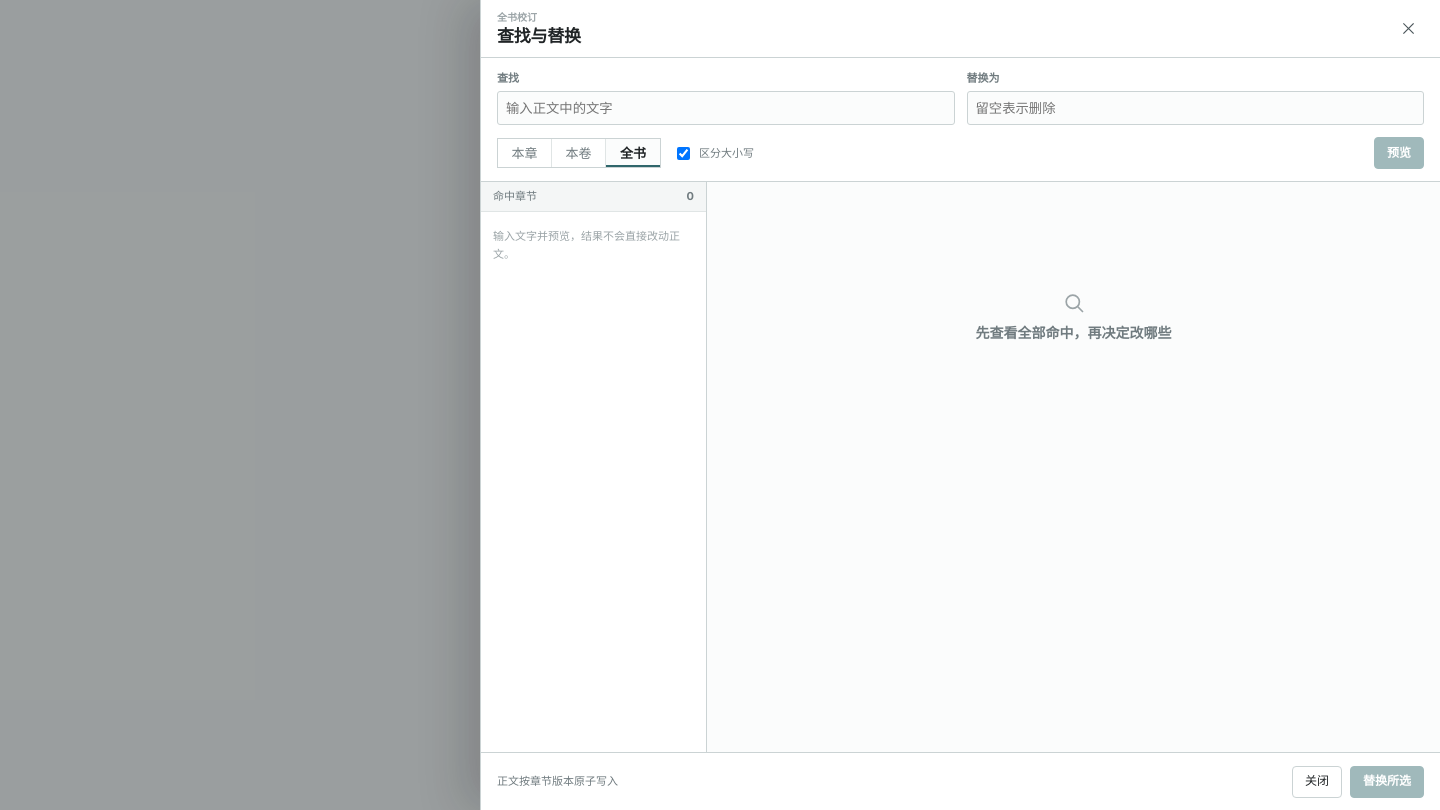
TextReplacementDrawer › previews every occurrence and requires codex-risk acknowledgement
Type "许知微" into the search field labelled "查找" at (726, 108), box [497,91,954,125]
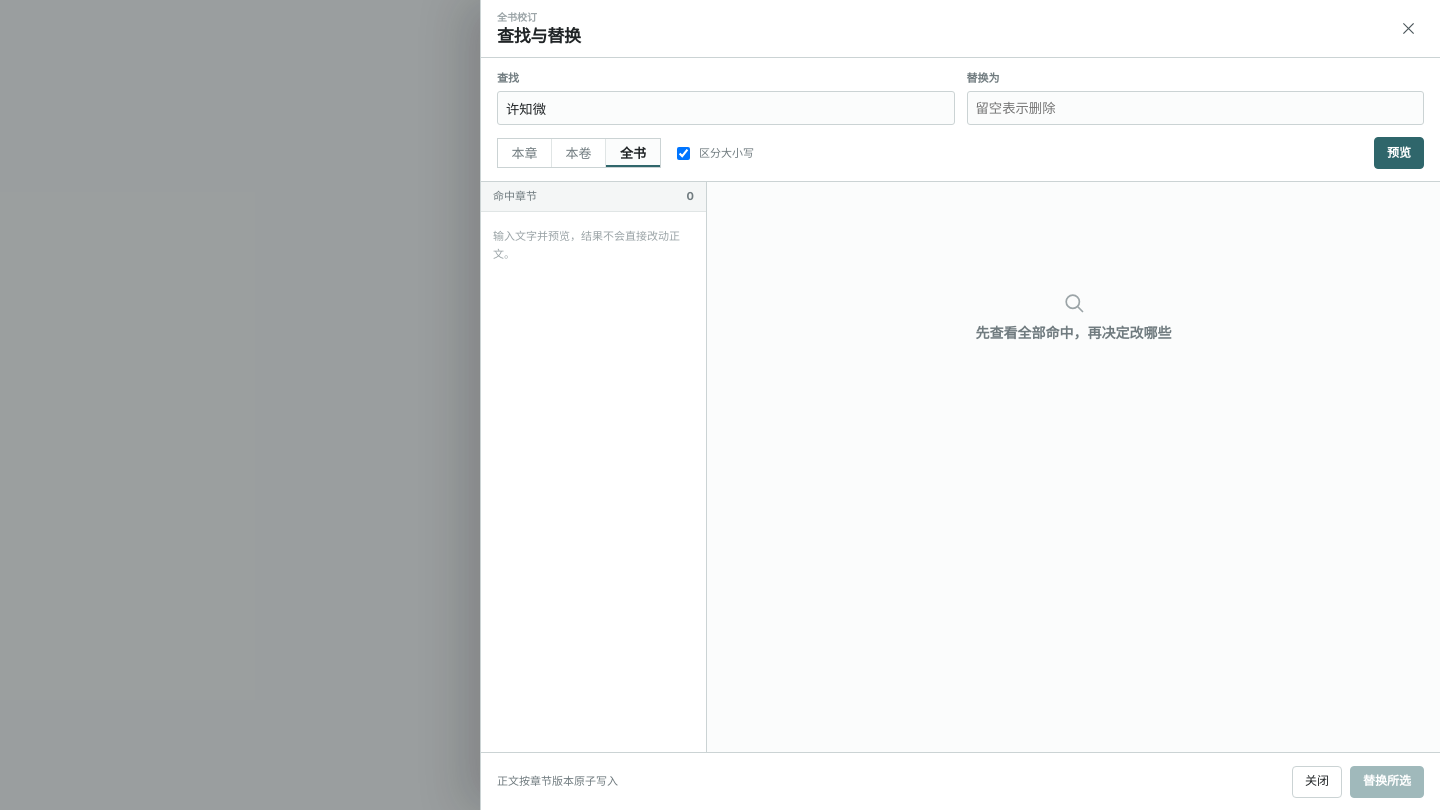
Type "许掌柜" into the field labelled "替换为" at (1195, 108), box [966,91,1424,125]
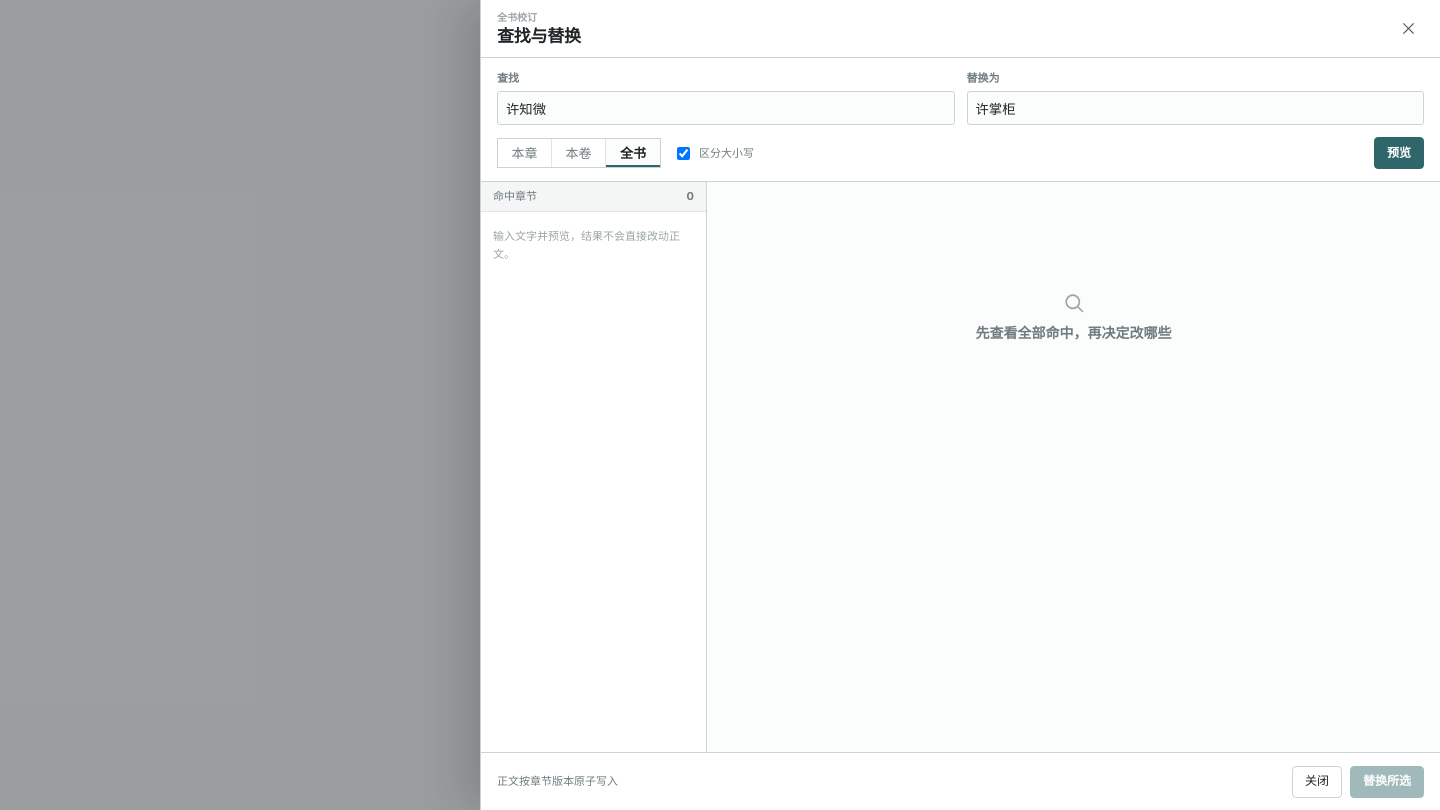
Click the button "预览" at (1399, 153), box [1374,137,1424,169]
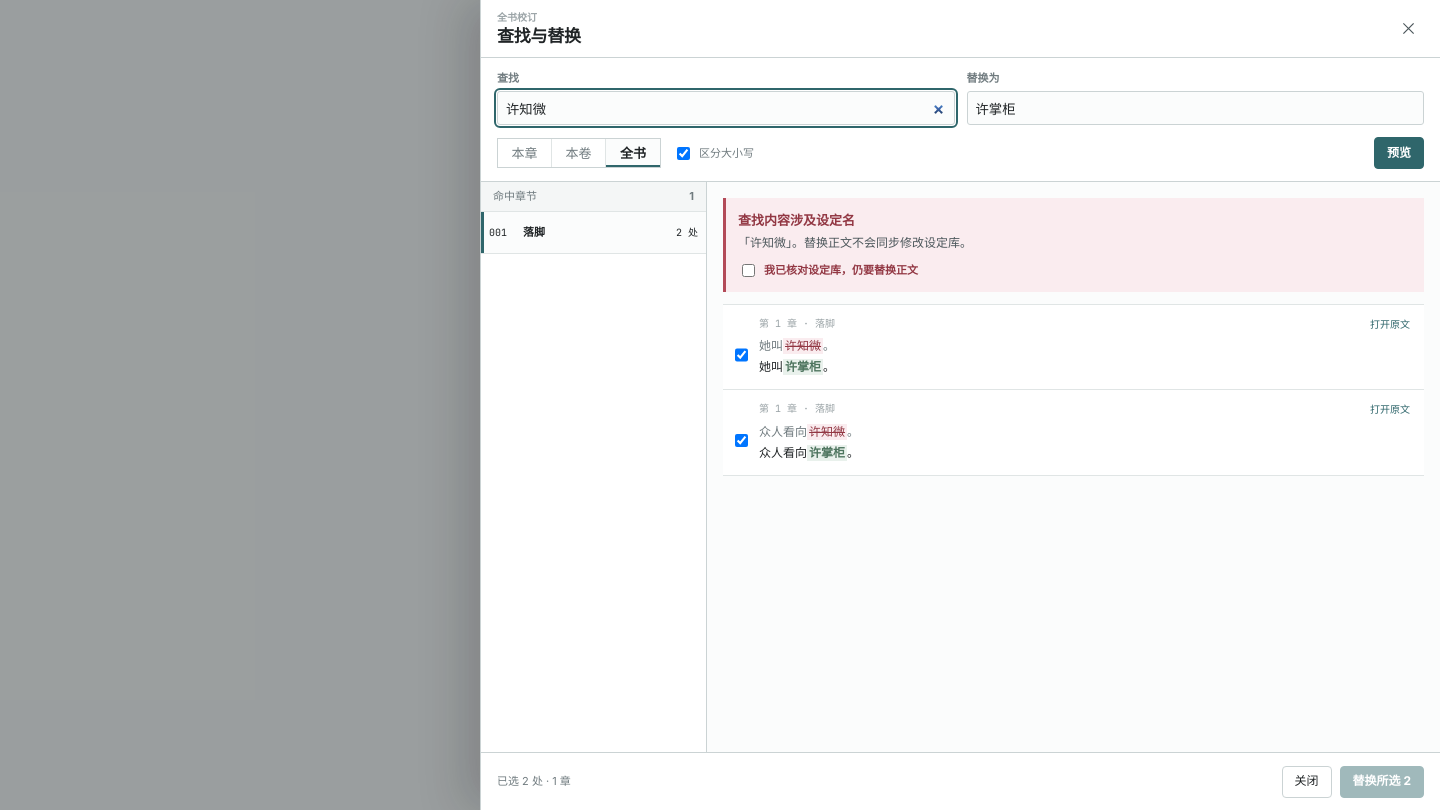
expect the button "替换所选 2" is disabled: met, box [1340,766,1424,798]
expect the number of elements with class "replace-proof" is 2: met, box [723,305,1424,390]; [723,390,1424,476]
expect the text "查找内容涉及设定名" is shown: met, box [738,212,855,228]
Click the checkbox labelled "我已核对设定库，仍要替换正文" at (748, 270), box [742,264,755,277]
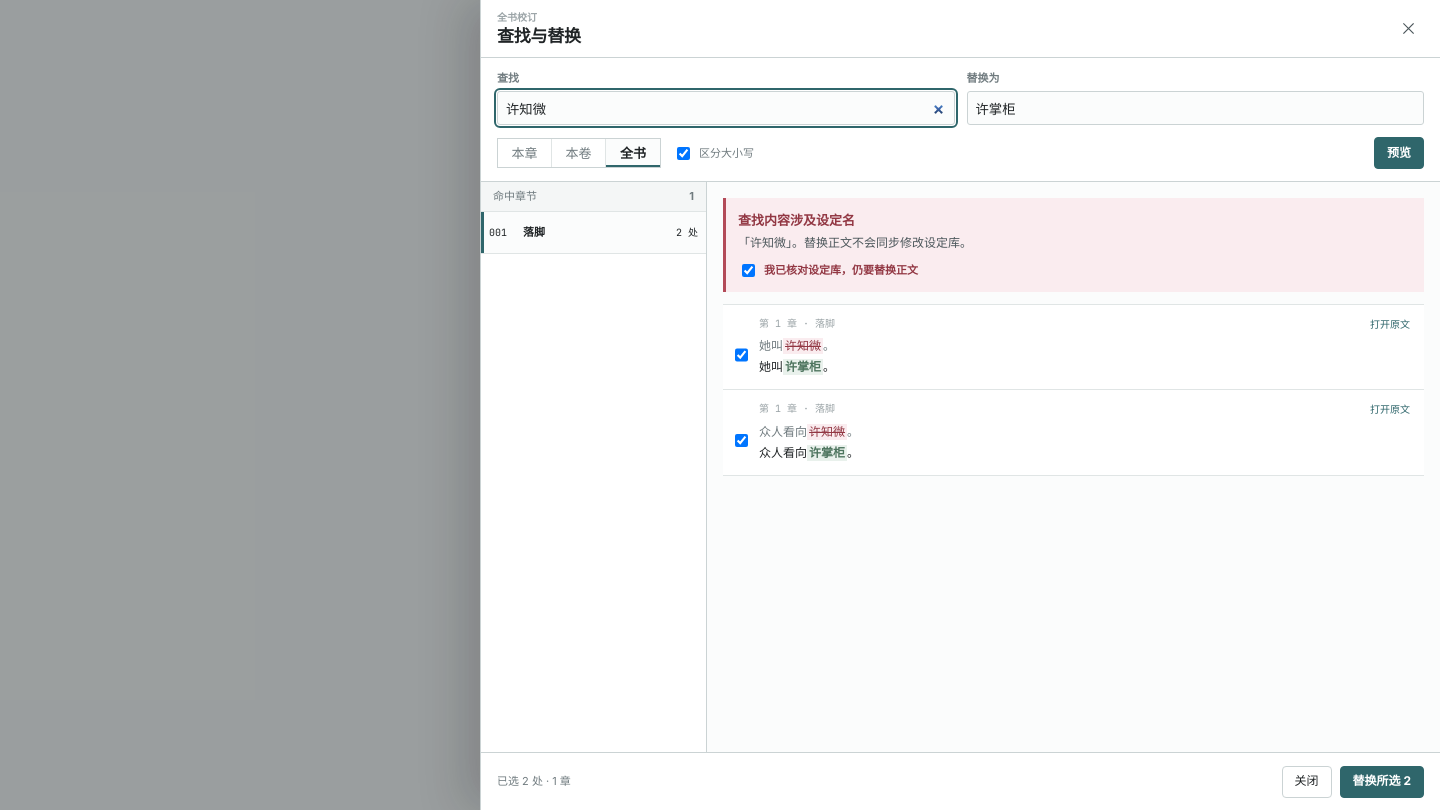
expect the button "替换所选 2" is enabled: met
Click the button "替换所选 2" at (1382, 782), box [1340,766,1424,798]
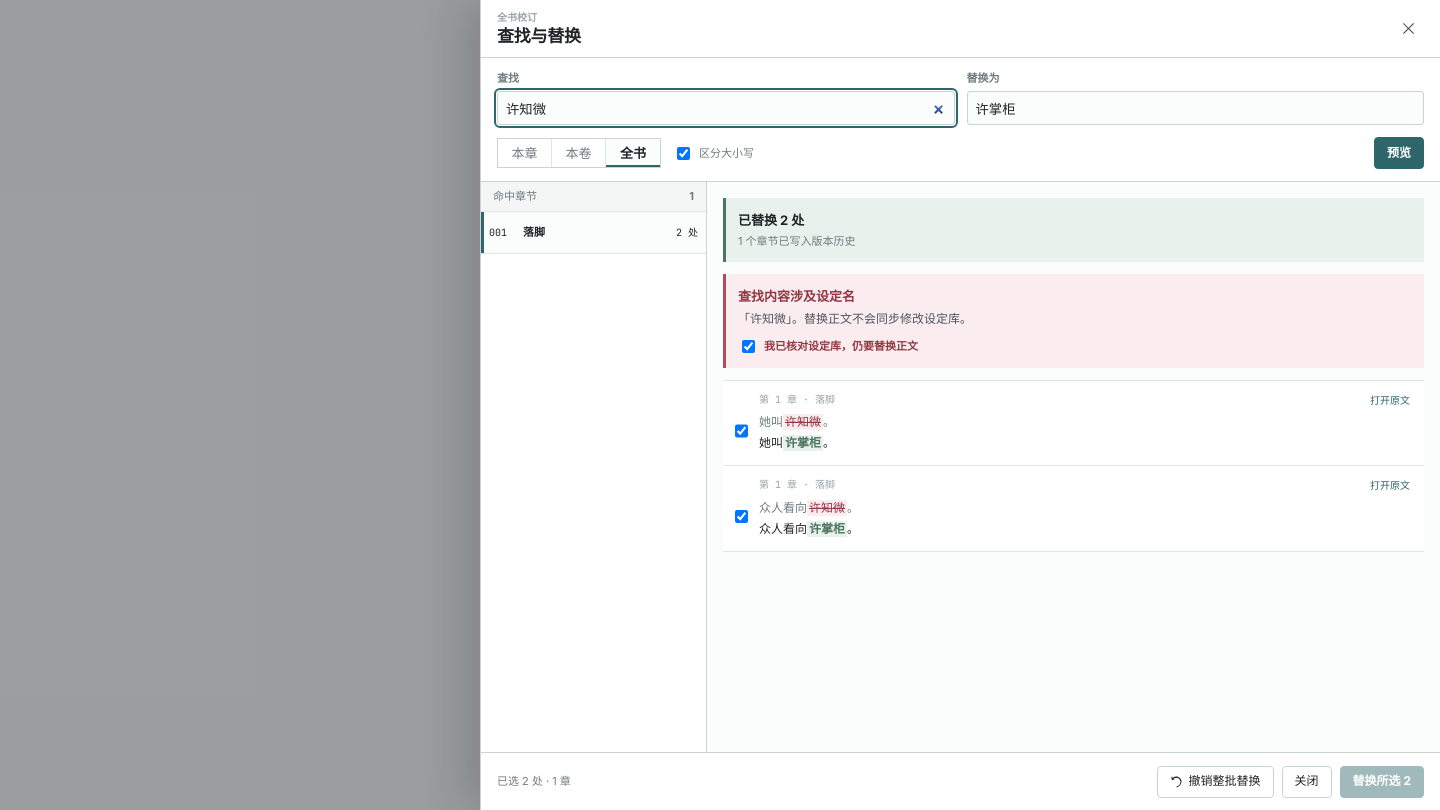
expect the text "已替换 2 处" is shown: met, box [738,212,804,228]
